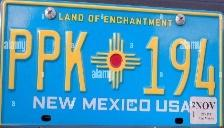1: (142, 34, 168, 95)
4: (194, 35, 220, 96)
9: (167, 36, 195, 95)
K: (62, 30, 91, 94)
P: (7, 27, 36, 92), (35, 28, 64, 92)
